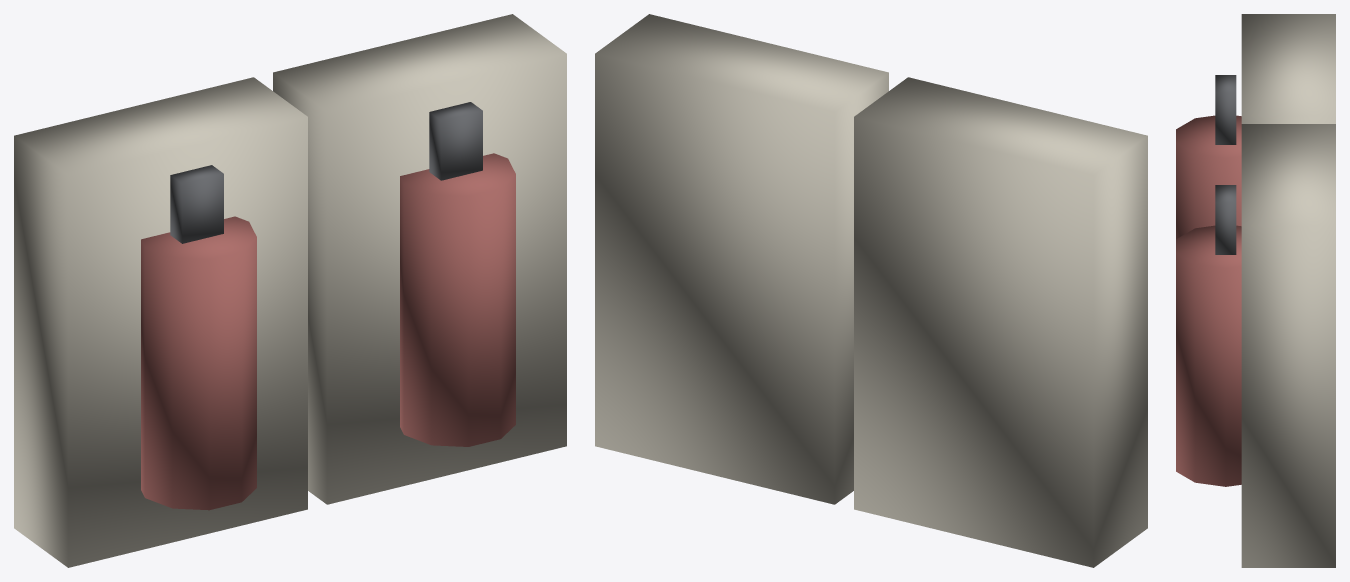
File: extinguisher_cabinet__cluster.glb
3 renders of one model, left to right at view 1: azimuth 30°, elevation 25°; view 2: azimuth 150°, elevation 25°; view 3: azimuth 270°, elevation 25°, orthographic. The views are drawn at different scales.
Visible parts, largest first — view 1: world; view 2: world; view 3: world.
Boxes of the visible parts, left/top/right/bottom form: world: left=14, top=14, right=566, bottom=567; world: left=595, top=14, right=1147, bottom=567; world: left=1176, top=14, right=1335, bottom=567.
Bounding box in the file's own units: 0.9568 × 0.72 × 0.3051.
